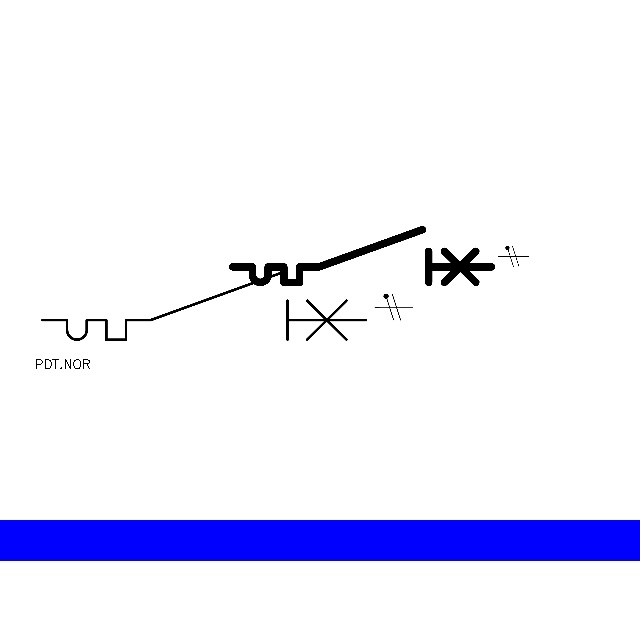interruptor_termomagnetico: (34, 265, 375, 348), (226, 223, 498, 289)
